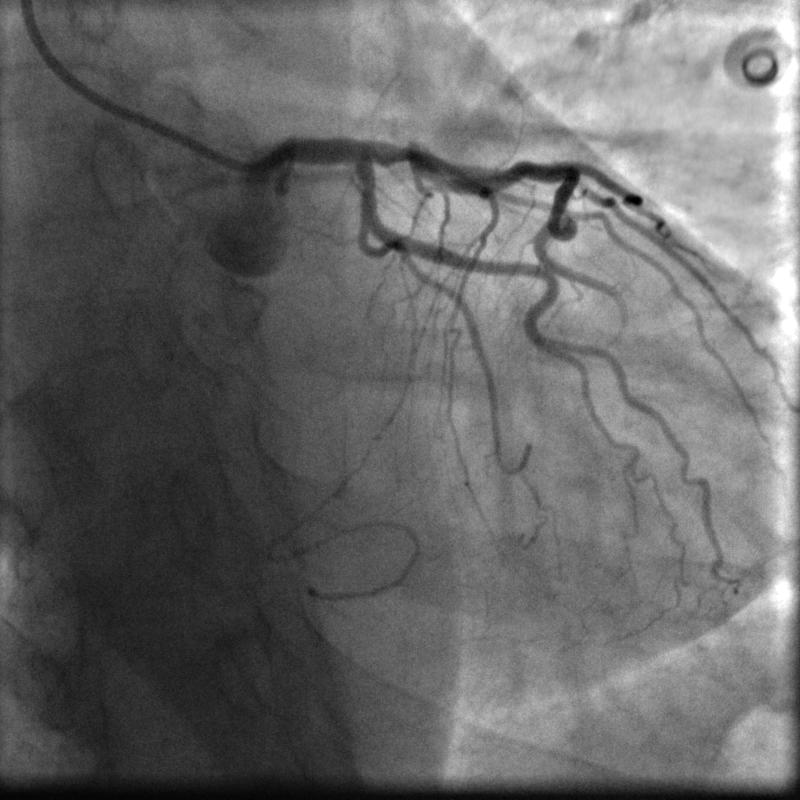Stenosis: (384, 139, 414, 163)
